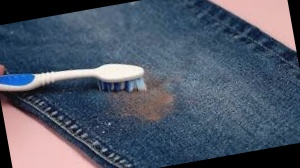earth: (125, 91, 171, 121)
